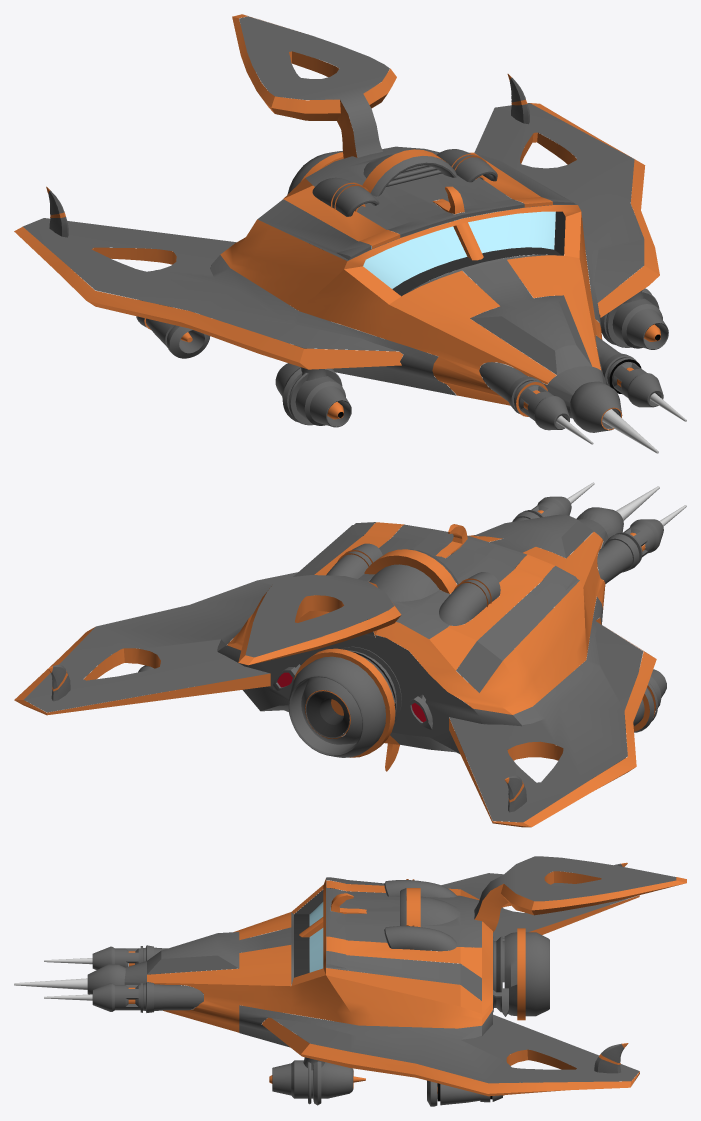
The picture shows the model from 3 angles, top to bottom: view 1: azimuth 30°, elevation 25°; view 2: azimuth 150°, elevation 25°; view 3: azimuth 270°, elevation 25°; orthographic projection. The views are drawn at different scales.
Visible parts, largest first — view 1: Cube005_2, Cube005_1, Cube005_6, Cube005_3, Cube005_5; view 2: Cube005_2, Cube005_1, Cube005_3, Cube005_5; view 3: Cube005_2, Cube005_1, Cube005_3, Cube005_5, Cube005_6.
Boxes of the visible parts, bbox=[...] form: Cube005_2: bbox=[23, 16, 668, 432]; Cube005_1: bbox=[14, 14, 660, 430]; Cube005_6: bbox=[363, 211, 555, 288]; Cube005_3: bbox=[392, 211, 565, 296]; Cube005_5: bbox=[556, 393, 686, 453]; Cube005_2: bbox=[24, 496, 666, 822]; Cube005_1: bbox=[14, 510, 656, 827]; Cube005_3: bbox=[306, 553, 542, 737]; Cube005_5: bbox=[567, 482, 686, 526]; Cube005_2: bbox=[87, 856, 676, 1106]; Cube005_1: bbox=[128, 862, 686, 1096]; Cube005_3: bbox=[294, 888, 334, 977]; Cube005_5: bbox=[14, 958, 92, 1000]; Cube005_6: bbox=[309, 889, 337, 972].
Bounding box in the file's own units: 3.63 × 1.36 × 4.75.
